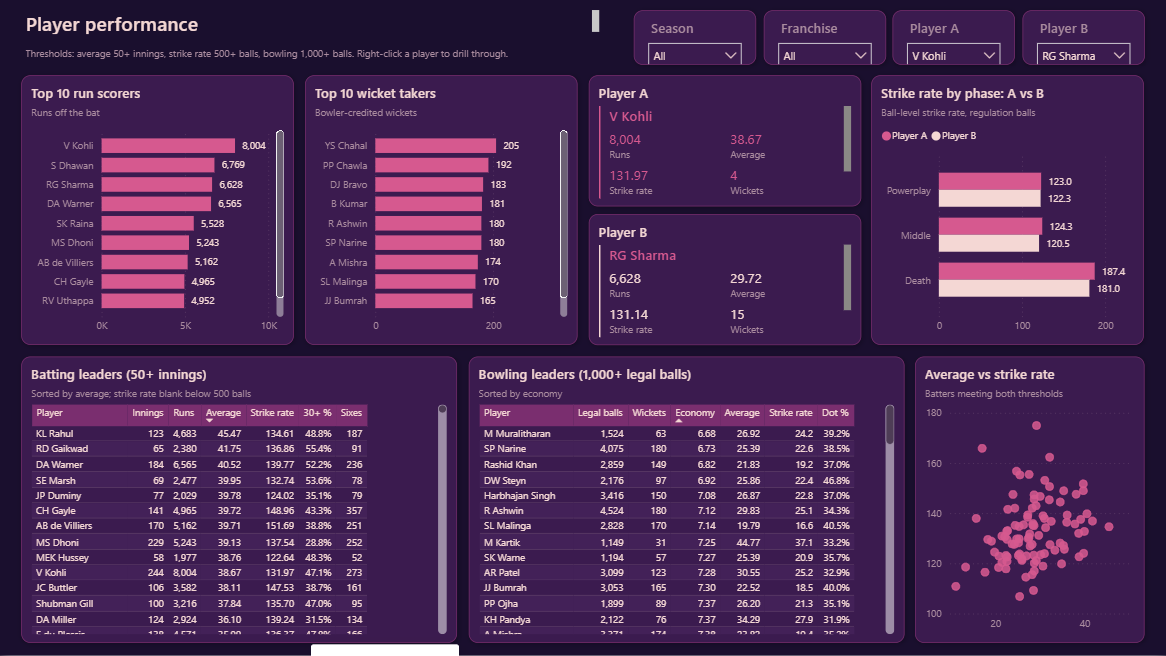

The page's visual inventory and layout, read from the dashboard file:
{"tool":"powerbi","page":{"name":"Player performance","canvas":[1280,720],"ordinal":1},"visuals":[{"type":"textbox","box":[18,4,650,42],"z":100},{"type":"textbox","box":[18,42,664,34],"z":200},{"type":"slicer","fields":{"Values":["DimSeason.Season"]},"box":[696,12,134,60],"z":300},{"type":"slicer","fields":{"Values":["DimTeam.Franchise"]},"box":[838,12,134,60],"z":400},{"type":"slicer","fields":{"Values":["Player A.Player A"]},"box":[980,12,134,60],"z":500},{"type":"slicer","fields":{"Values":["Player B.Player B"]},"box":[1122,12,134,60],"z":600},{"type":"clusteredBarChart","title":"Top 10 run scorers","fields":{"Category":["DimPlayer.Player"],"Y":["_Measures.Top 10 Run Scorers"]},"box":[24,84,299,296],"z":700},{"type":"clusteredBarChart","title":"Top 10 wicket takers","fields":{"Category":["DimPlayer.Player"],"Y":["_Measures.Top 10 Wicket Takers"]},"box":[335,84,299,296],"z":800},{"type":"multiRowCard","title":"Player A","fields":{"Values":["_Measures.Player A Name","_Measures.Player A Runs","_Measures.Player A Average","_Measures.Player A Strike Rate","_Measures.Player A Wickets","_Measures.Player A Economy"]},"box":[646,84,299,144],"z":900},{"type":"multiRowCard","title":"Player B","fields":{"Values":["_Measures.Player B Name","_Measures.Player B Runs","_Measures.Player B Average","_Measures.Player B Strike Rate","_Measures.Player B Wickets","_Measures.Player B Economy"]},"box":[646,236,299,144],"z":1000},{"type":"clusteredBarChart","title":"Strike rate by phase: A vs B","fields":{"Category":["DimPhase.Phase"],"Y":["_Measures.Player A Phase SR","_Measures.Player B Phase SR"]},"box":[957,84,299,296],"z":1100},{"type":"tableEx","title":"Batting leaders (50+ innings)","fields":{"Values":["DimPlayer.Player","_Measures.Q Innings","_Measures.Bat Runs","_Measures.Q Batting Average","_Measures.Q Strike Rate","_Measures.Q 30+ Rate","_Measures.Bat Sixes"]},"box":[24,392,478,314],"z":1200},{"type":"tableEx","title":"Bowling leaders (1,000+ legal balls)","fields":{"Values":["DimPlayer.Player","_Measures.Q Legal Balls","_Measures.Q Wickets","_Measures.Q Economy","_Measures.Q Bowling Average","_Measures.Q Bowling Strike Rate","_Measures.Q Dot %"]},"box":[514,392,478,314],"z":1300},{"type":"scatterChart","title":"Average vs strike rate","fields":{"Category":["DimPlayer.Player"],"X":["_Measures.Q Batting Average"],"Y":["_Measures.Q Strike Rate"]},"box":[1004,392,252,314],"z":1400}]}

Visuals, with their boxes in screenshot pixels (x1, y1, x2, y2), scaled from the page's 1280x720 canvas onto the 1166x656 screenshot:
textbox: pyautogui.locateOnScreen(16, 4, 609, 42)
textbox: pyautogui.locateOnScreen(16, 38, 621, 69)
slicer - DimSeason.Season: pyautogui.locateOnScreen(634, 11, 756, 66)
slicer - DimTeam.Franchise: pyautogui.locateOnScreen(763, 11, 885, 66)
slicer - Player A.Player A: pyautogui.locateOnScreen(893, 11, 1015, 66)
slicer - Player B.Player B: pyautogui.locateOnScreen(1022, 11, 1144, 66)
"Top 10 run scorers" clusteredBarChart: pyautogui.locateOnScreen(22, 77, 294, 346)
"Top 10 wicket takers" clusteredBarChart: pyautogui.locateOnScreen(305, 77, 578, 346)
"Player A" multiRowCard: pyautogui.locateOnScreen(588, 77, 861, 208)
"Player B" multiRowCard: pyautogui.locateOnScreen(588, 215, 861, 346)
"Strike rate by phase: A vs B" clusteredBarChart: pyautogui.locateOnScreen(872, 77, 1144, 346)
"Batting leaders (50+ innings)" tableEx: pyautogui.locateOnScreen(22, 357, 457, 643)
"Bowling leaders (1,000+ legal balls)" tableEx: pyautogui.locateOnScreen(468, 357, 904, 643)
"Average vs strike rate" scatterChart: pyautogui.locateOnScreen(915, 357, 1144, 643)
